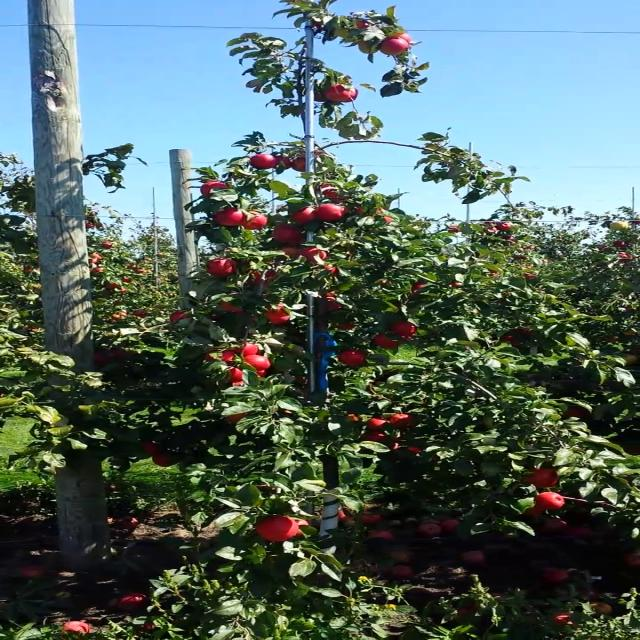apple: (258, 515, 308, 543), (519, 466, 557, 488), (276, 224, 306, 244), (534, 492, 566, 510), (326, 85, 356, 103), (320, 203, 346, 222), (500, 328, 532, 343), (208, 258, 236, 275), (241, 212, 267, 230), (241, 354, 270, 370), (265, 306, 290, 324), (381, 38, 409, 54), (217, 209, 245, 225), (340, 350, 368, 366), (391, 441, 421, 455), (300, 246, 328, 260), (391, 322, 419, 336), (250, 154, 274, 170), (292, 207, 316, 223), (220, 302, 243, 318), (205, 351, 238, 362), (234, 342, 258, 356), (389, 414, 416, 426), (247, 272, 273, 284), (202, 182, 230, 193), (325, 295, 343, 311), (375, 336, 398, 348), (228, 366, 246, 381), (390, 31, 412, 43), (150, 454, 172, 466), (358, 43, 379, 55), (367, 418, 391, 428), (224, 413, 247, 423), (171, 312, 190, 324), (320, 183, 336, 197), (109, 347, 127, 359), (280, 248, 301, 258), (364, 432, 386, 441), (413, 282, 427, 296), (293, 156, 306, 171), (273, 156, 289, 168), (142, 442, 156, 454), (566, 409, 587, 417), (332, 28, 348, 38), (346, 413, 362, 422), (95, 352, 109, 362), (528, 506, 542, 516), (337, 324, 356, 330), (330, 195, 346, 202), (228, 380, 246, 386), (358, 21, 370, 29), (326, 266, 338, 274), (449, 281, 463, 287), (382, 217, 394, 224), (356, 205, 364, 215), (257, 370, 267, 378)
